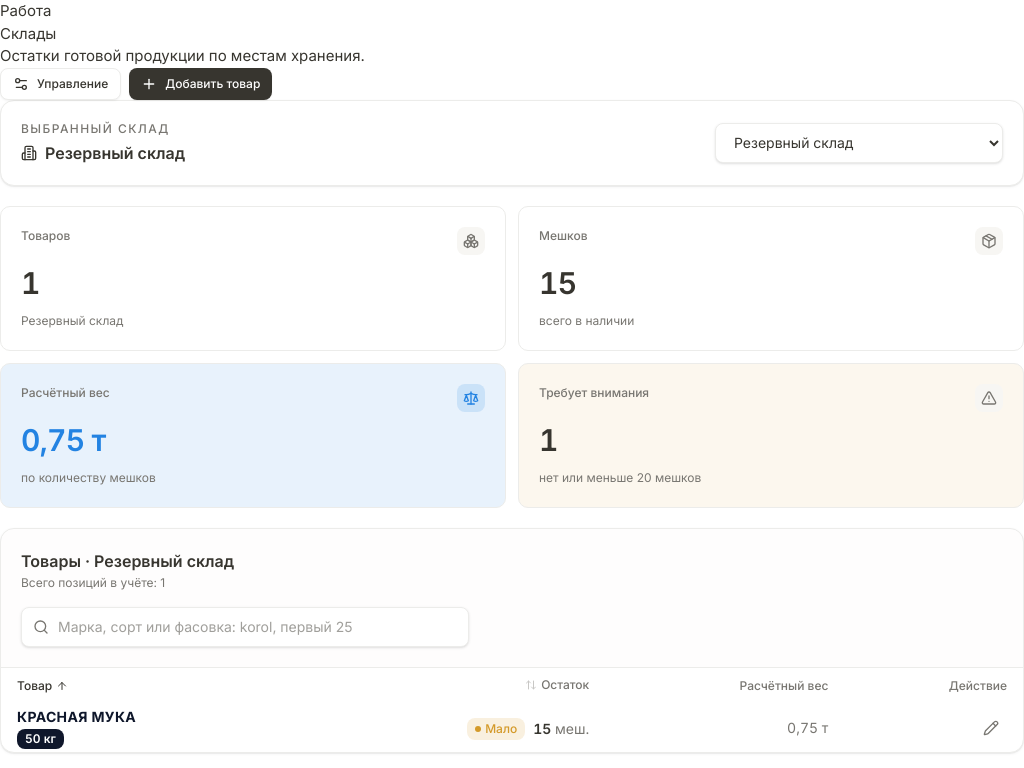
Test case: WarehousePage multi-warehouse inventory › explains why a warehouse keeper without catalog rights cannot add a new product
The image size is (1024, 768).
Click the button with aria-label "Добавить товар на склад Резервный склад".
click(201, 84)  # box [129,68,272,100]
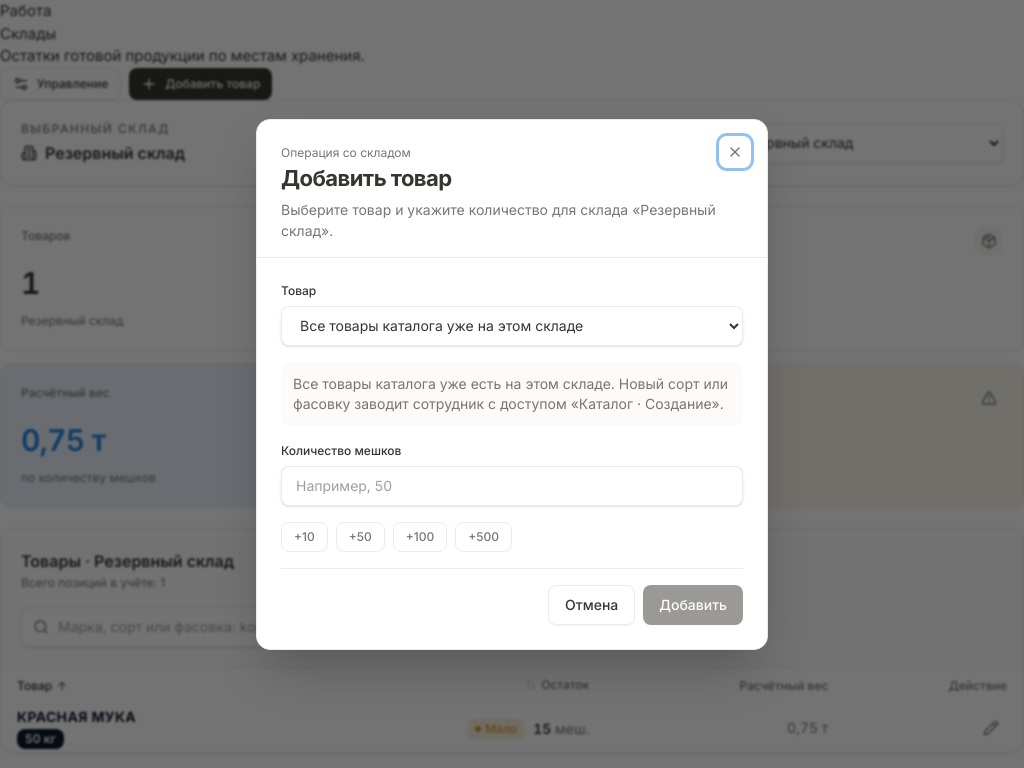
expect the message shows "Все товары каталога уже есть на этом складе": met, box [293,374,728,412]
